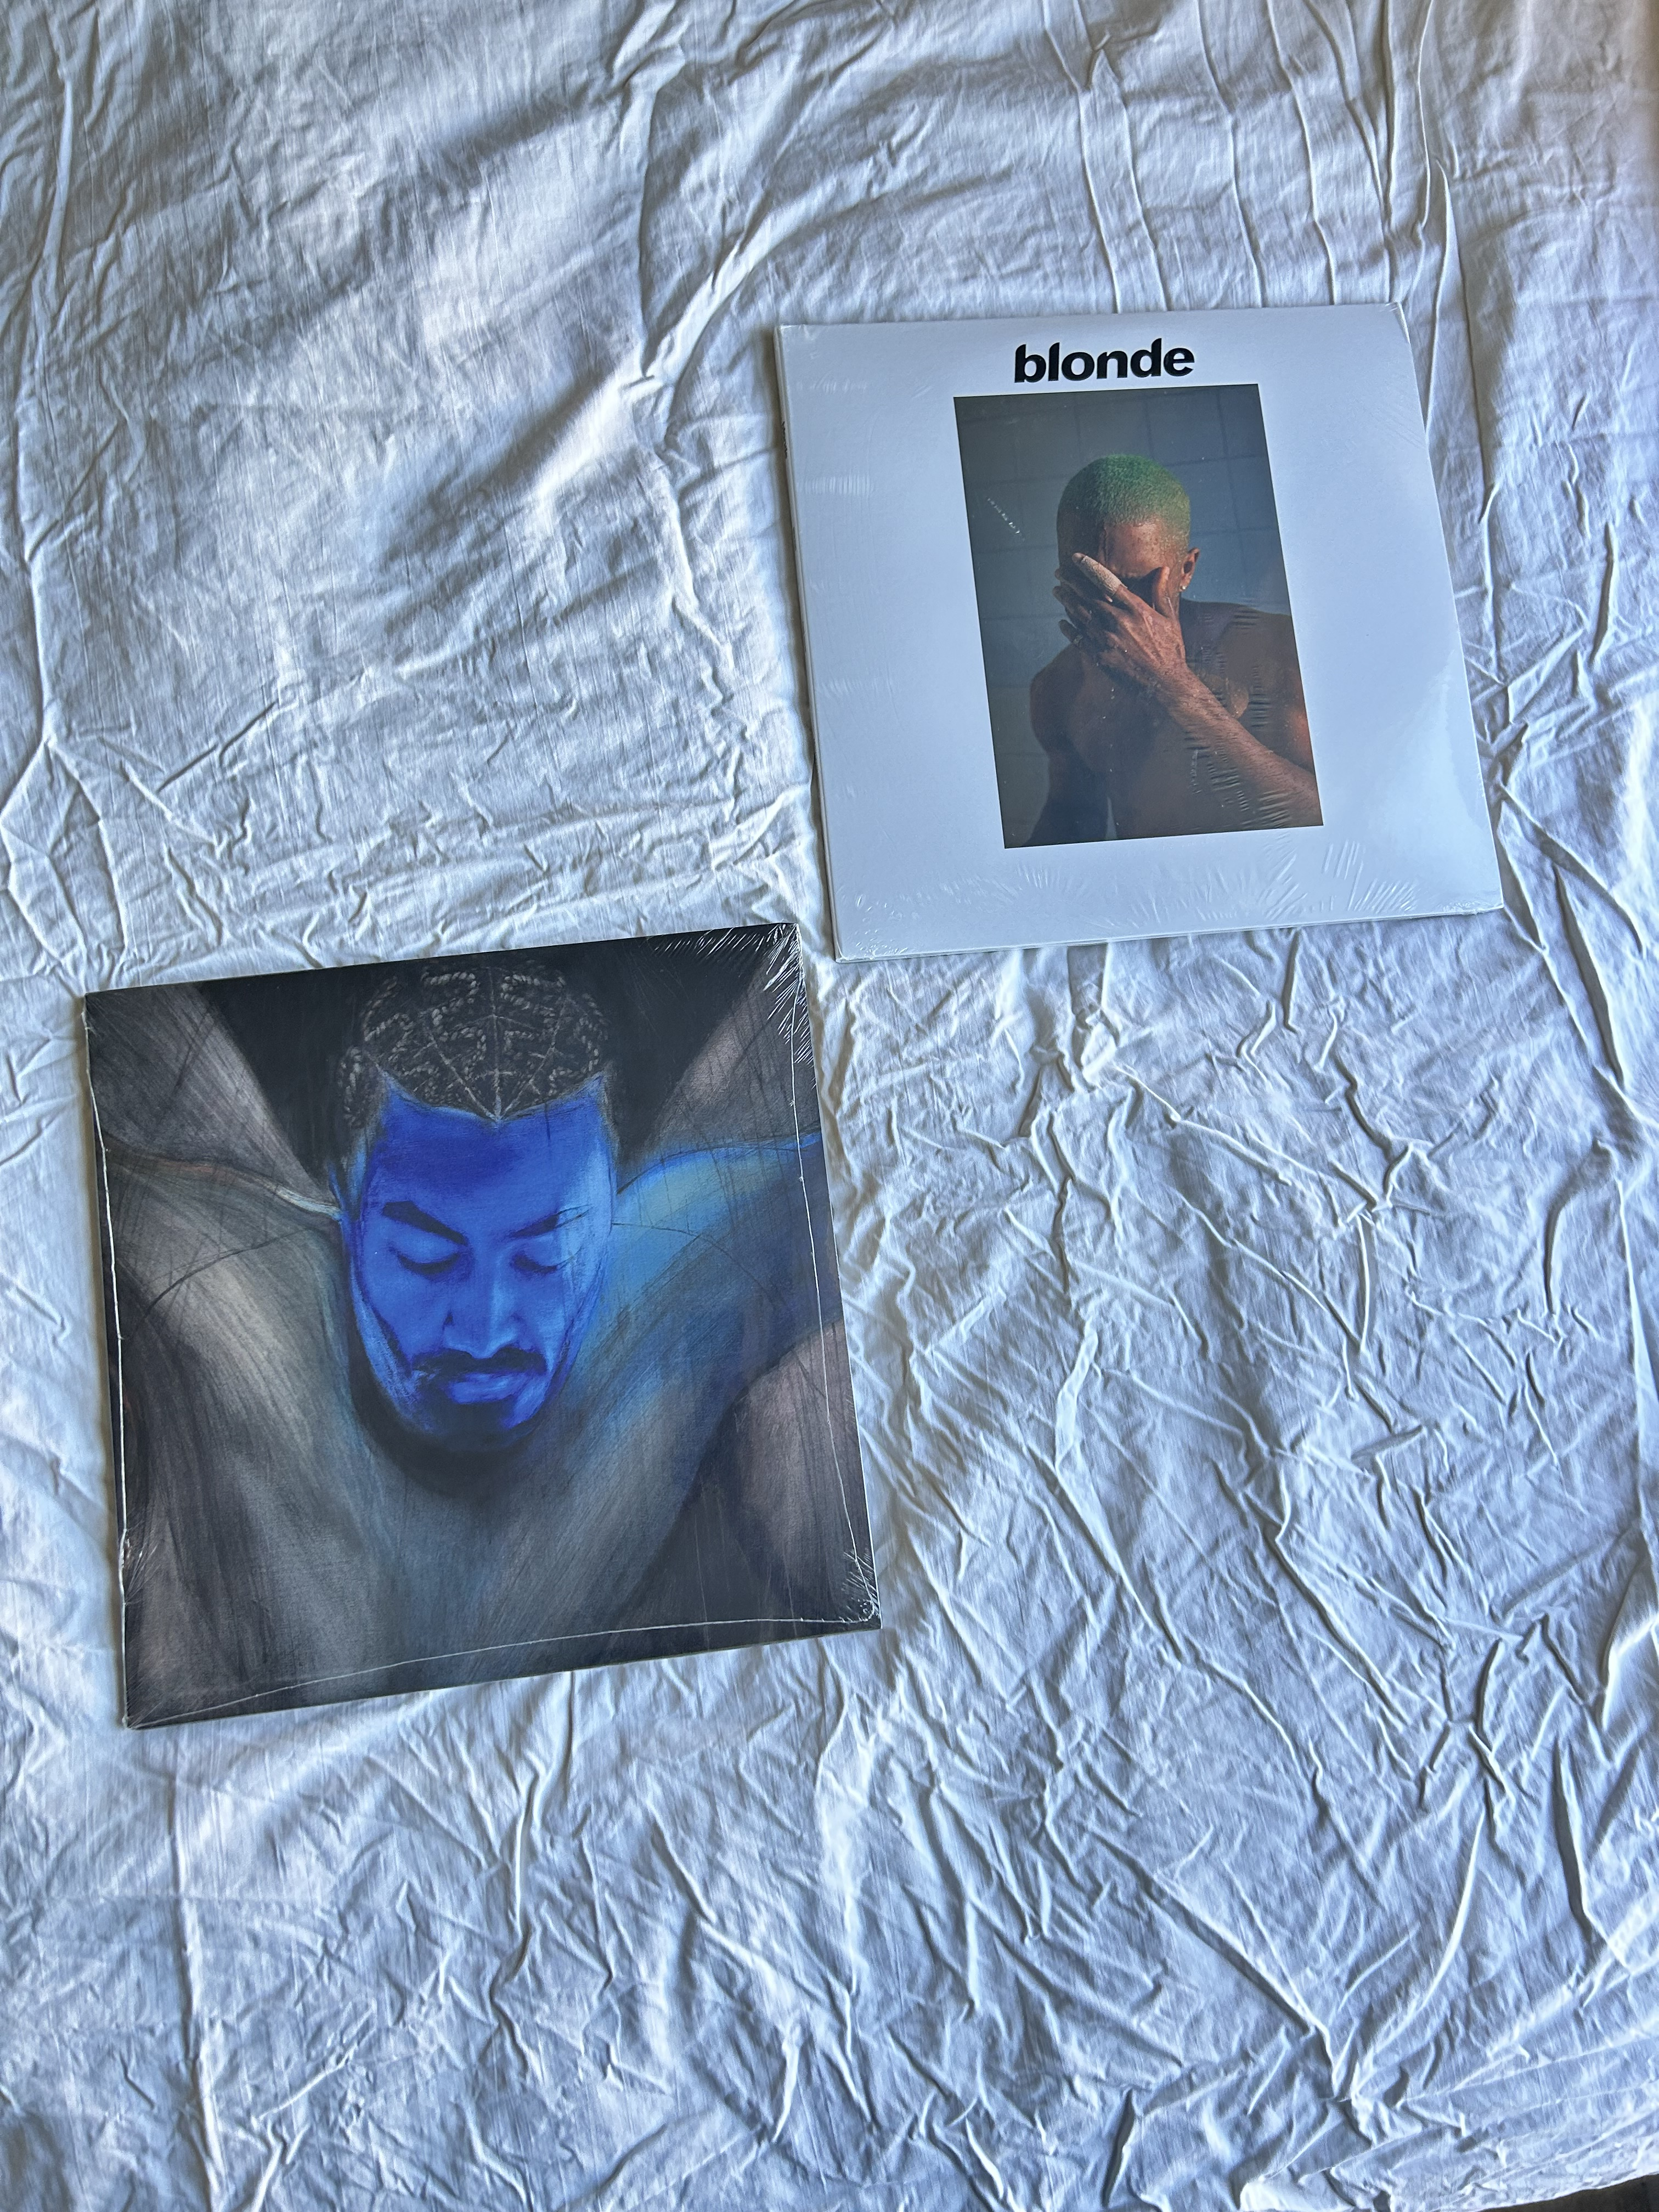frank ocean_blonde: (760, 331, 1452, 988)
navy blue_song of sage: post panic!: (24, 991, 821, 1745)
